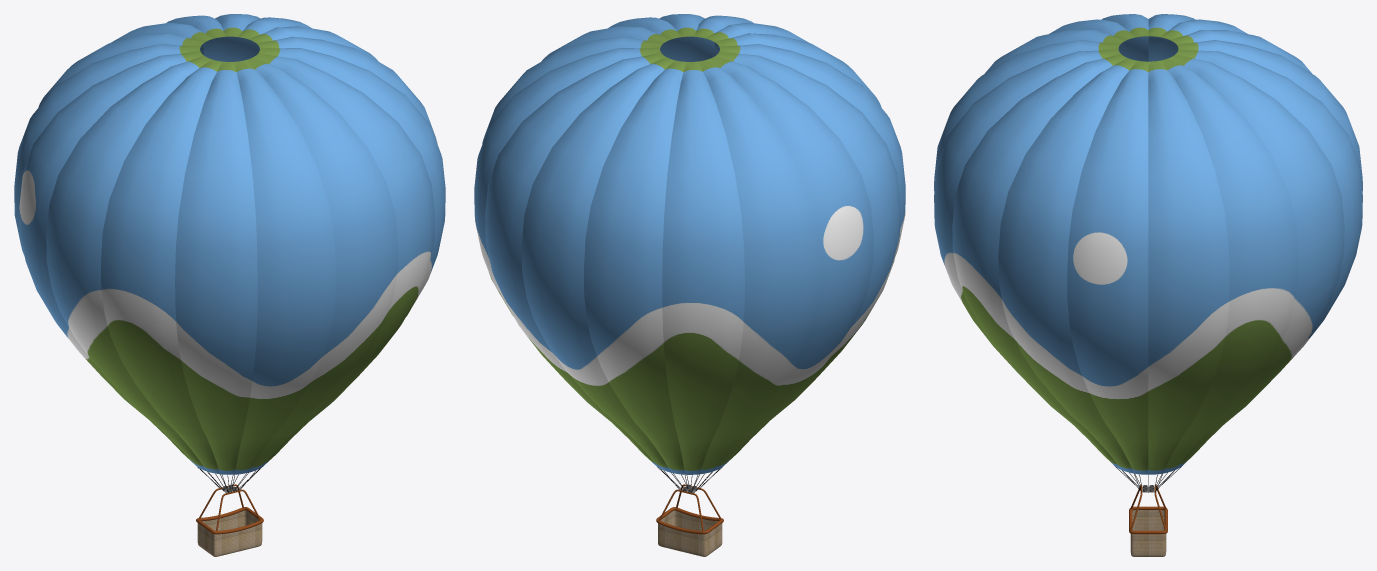
Rendered from CesiumBalloon.glb.
3 renders of one model, left to right at view 1: azimuth 30°, elevation 25°; view 2: azimuth 150°, elevation 25°; view 3: azimuth 270°, elevation 25°, orthographic.
Bounding box in the file's own units: 14.47 × 18.54 × 14.47.
5 materials, 3 textured.
